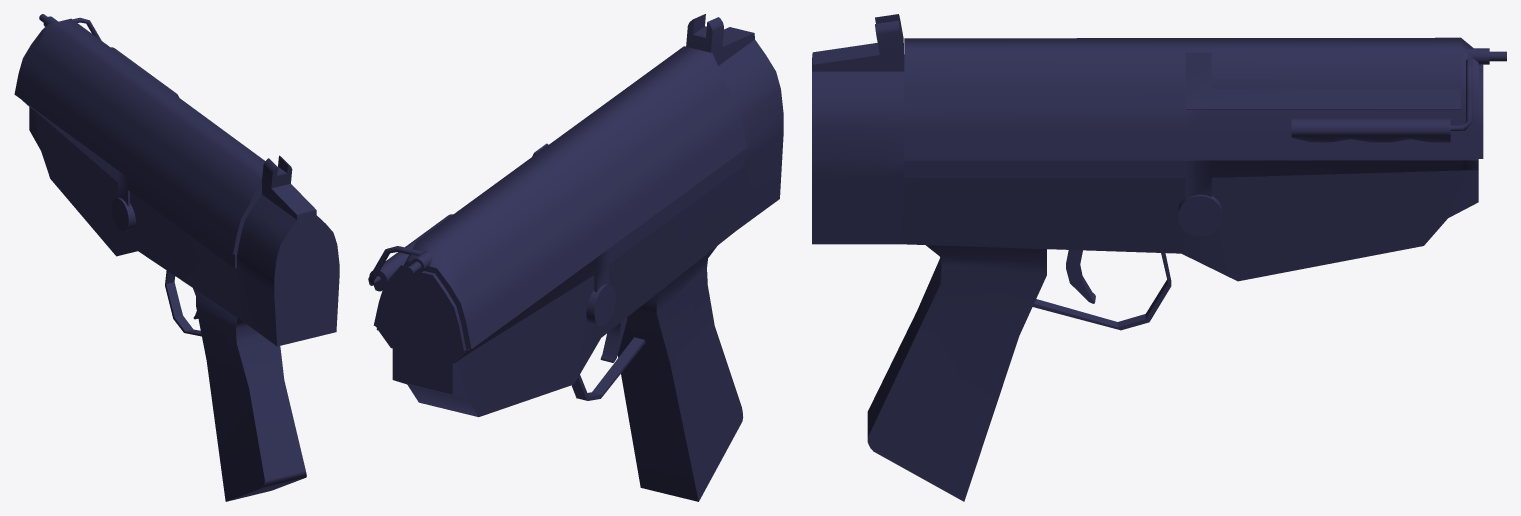
The model's file is Reciever_4.fbx.
The picture shows the model from 3 angles, left to right: view 1: azimuth 30°, elevation 25°; view 2: azimuth 150°, elevation 25°; view 3: azimuth 270°, elevation 25°; orthographic projection. The views are drawn at different scales.
Visible parts, largest first — view 1: Receiver_4; view 2: Receiver_4; view 3: Receiver_4.
Part boxes in pixels (x1,y1,x2,y2): Receiver_4: [14, 14, 339, 501]; Receiver_4: [368, 14, 783, 501]; Receiver_4: [812, 14, 1506, 501].
Size of the model in its own units: 0.3223 by 1.2 by 1.61.
